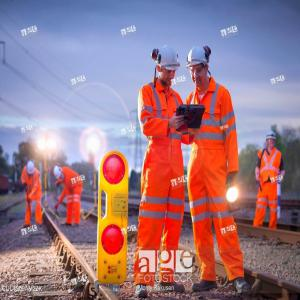white: (157, 46, 180, 87), (188, 47, 210, 88), (266, 131, 277, 149), (54, 166, 65, 182), (27, 161, 36, 177)
